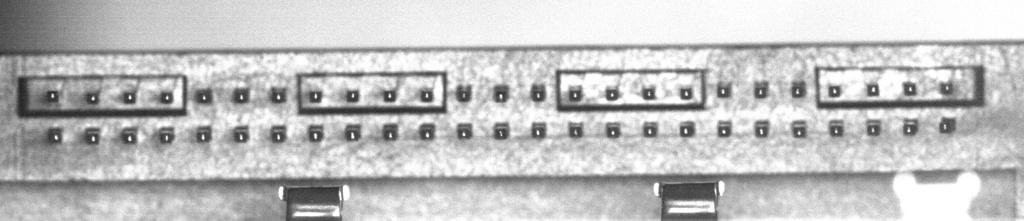pin_ok: (902, 118, 919, 136), (939, 116, 956, 134), (269, 86, 287, 103), (232, 86, 250, 103), (121, 126, 138, 144), (46, 126, 63, 143), (828, 119, 845, 136), (158, 127, 175, 144), (232, 126, 249, 143), (679, 120, 696, 137), (270, 125, 287, 142), (493, 123, 510, 140), (530, 83, 546, 101), (866, 118, 882, 136), (791, 119, 807, 137), (754, 119, 770, 137), (345, 123, 361, 141), (419, 122, 435, 140), (382, 123, 398, 141), (195, 126, 212, 142), (456, 84, 472, 101), (493, 85, 509, 102), (790, 81, 806, 98), (308, 124, 324, 141), (456, 123, 473, 139), (606, 121, 622, 138), (753, 82, 769, 98), (84, 128, 100, 144), (716, 82, 732, 98), (568, 122, 584, 138), (195, 88, 212, 103), (717, 120, 732, 137), (531, 122, 546, 139), (643, 121, 658, 137), (567, 86, 583, 101), (939, 80, 954, 95), (605, 85, 620, 100), (642, 85, 657, 99), (679, 86, 694, 100), (902, 81, 917, 95), (420, 88, 434, 102), (308, 89, 322, 103), (866, 83, 880, 97), (827, 84, 842, 97), (45, 89, 59, 102), (85, 91, 99, 104), (160, 90, 174, 103), (346, 89, 360, 102), (383, 89, 397, 102), (123, 91, 136, 103)
